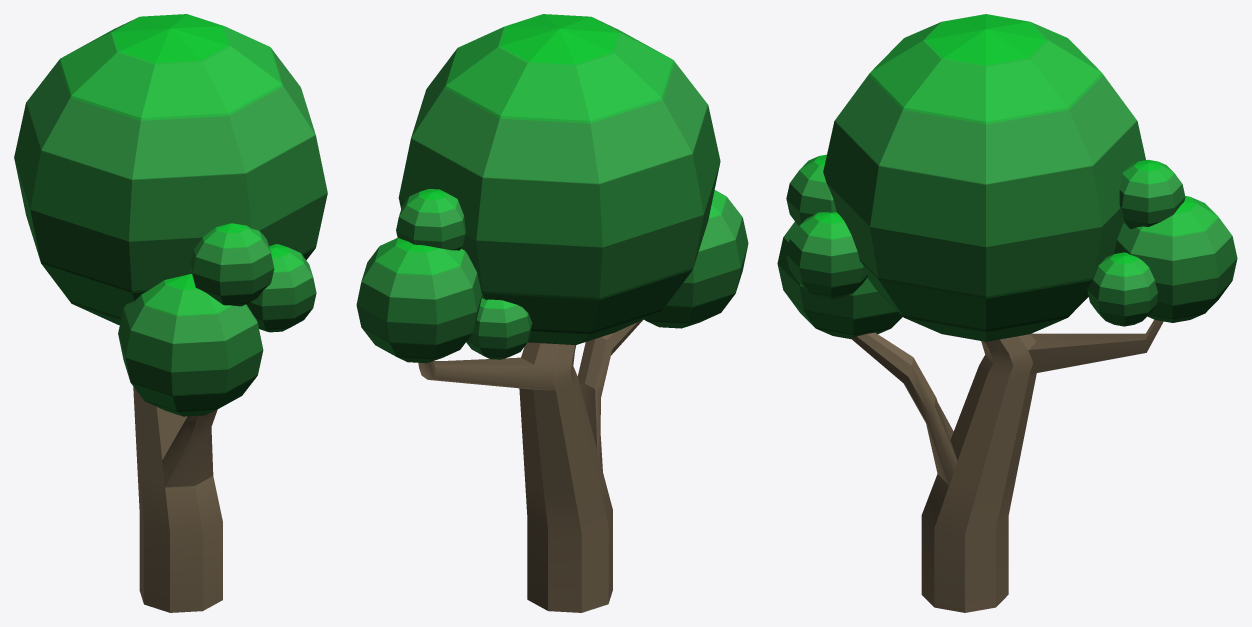
File: tree-1.fbx
3 views of the same model, side by side, from view 1: azimuth 30°, elevation 25°; view 2: azimuth 150°, elevation 25°; view 3: azimuth 270°, elevation 25° (orthographic). The views are drawn at different scales.
Visible parts, largest first — view 1: polySurface19, polySurface21; view 2: polySurface19, polySurface21; view 3: polySurface19, polySurface21.
Part boxes in pixels (left/top/right/bottom): polySurface19: left=14, top=14, right=327, bottom=416; polySurface21: left=133, top=387, right=222, bottom=612; polySurface19: left=356, top=14, right=748, bottom=363; polySurface21: left=418, top=320, right=642, bottom=612; polySurface19: left=777, top=14, right=1237, bottom=341; polySurface21: left=850, top=319, right=1163, bottom=612.
Bounding box in the file's own units: 7.53 × 14.31 × 10.55.
Materials: 2 (1 with a texture image).
